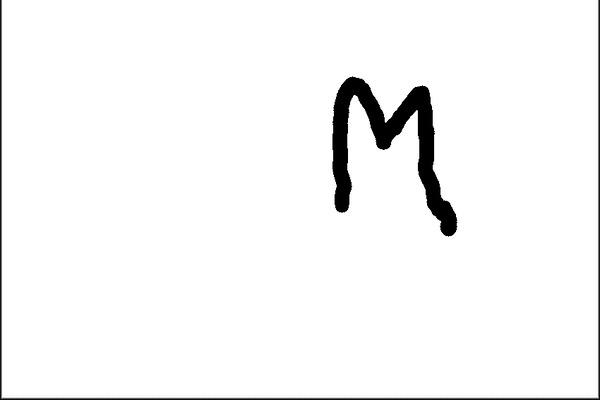M: (328, 74, 466, 241)
